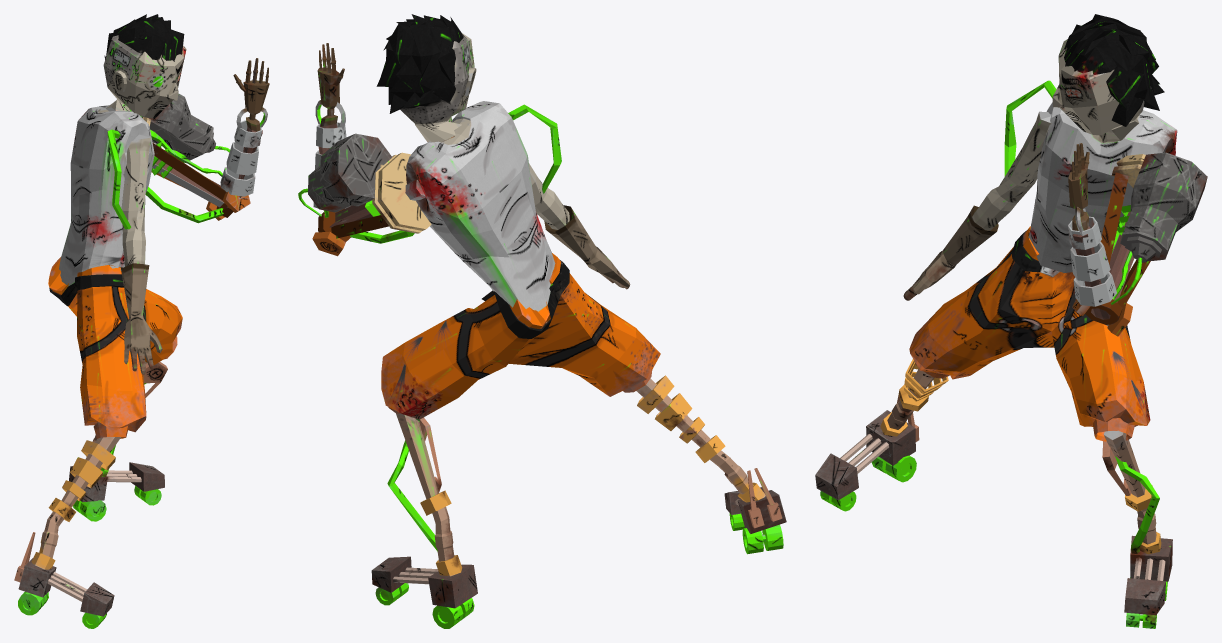
The model's file is CyborgFINALAnimation_000002.obj.
The picture shows the model from 3 angles, left to right: view 1: azimuth 30°, elevation 25°; view 2: azimuth 150°, elevation 25°; view 3: azimuth 270°, elevation 25°; orthographic projection. The views are drawn at different scales.
Parts seen in each view (by area): view 1: CyborgMesh_Cube.002; view 2: CyborgMesh_Cube.002; view 3: CyborgMesh_Cube.002.
Boxes of the visible parts, x1,y1,x2,y2 form: CyborgMesh_Cube.002: (14,14,269,628); CyborgMesh_Cube.002: (298,14,786,628); CyborgMesh_Cube.002: (815,14,1207,628).
Bounding box in the file's own units: 5.89 × 8.58 × 5.07.
